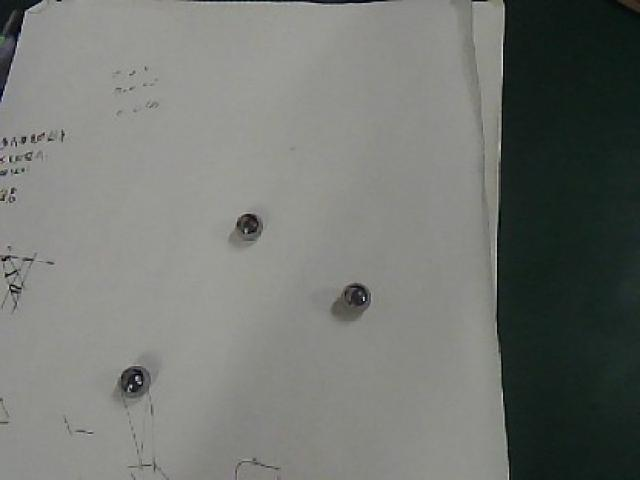steel-ball: (98, 360, 162, 409), (224, 200, 278, 257), (328, 272, 378, 326)
